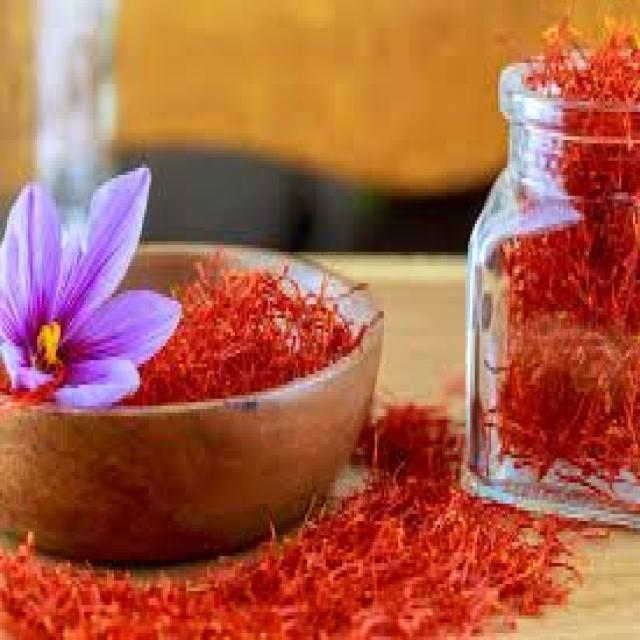Flower: (0, 161, 172, 416)
